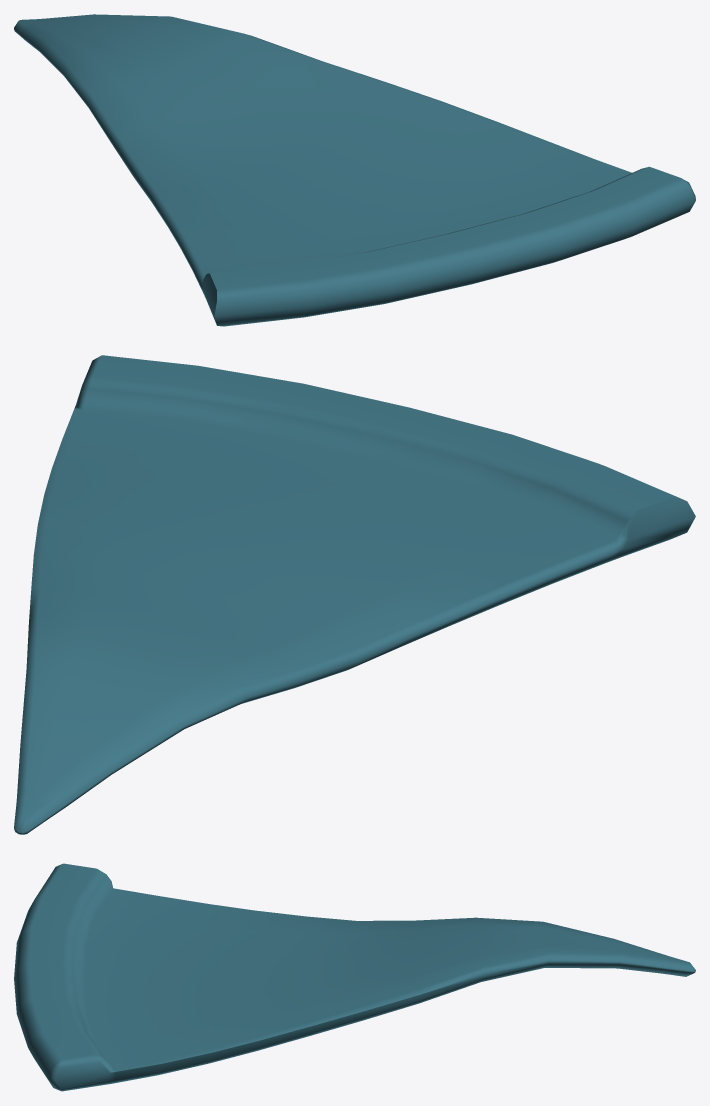
Rendered from SM_SmallTrashkit_Pizza_003.fbx.
3 views of the same model, one above another, from view 1: azimuth 30°, elevation 25°; view 2: azimuth 150°, elevation 25°; view 3: azimuth 270°, elevation 25° (orthographic). The views are drawn at different scales.
Visible parts, largest first — view 1: SM_SmallTrashkit_Pizza_003; view 2: SM_SmallTrashkit_Pizza_003; view 3: SM_SmallTrashkit_Pizza_003.
Part boxes in pixels (x1,y1,x2,y2): SM_SmallTrashkit_Pizza_003: (14, 14, 695, 326); SM_SmallTrashkit_Pizza_003: (14, 355, 695, 834); SM_SmallTrashkit_Pizza_003: (14, 863, 695, 1091).
Size of the model in its own units: 16.3 by 2 by 22.98.
